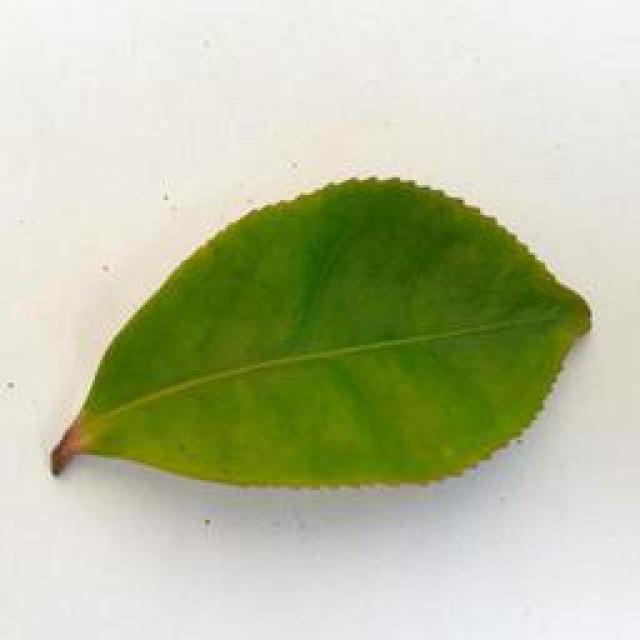Healthy: (52, 170, 592, 516)
